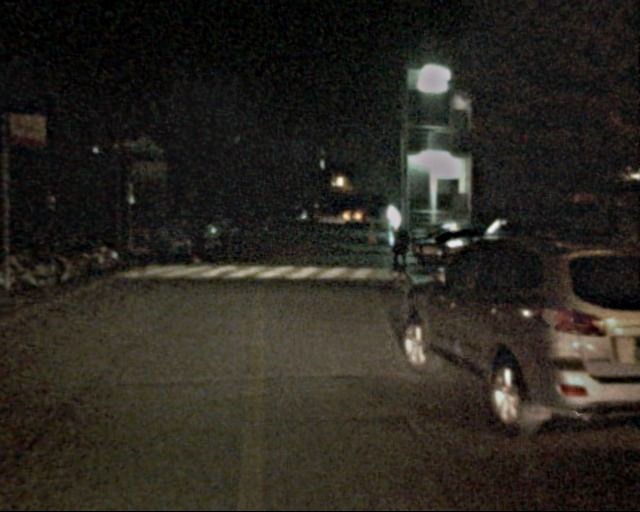person: (387, 222, 412, 282), (126, 217, 149, 272), (181, 215, 198, 257)
